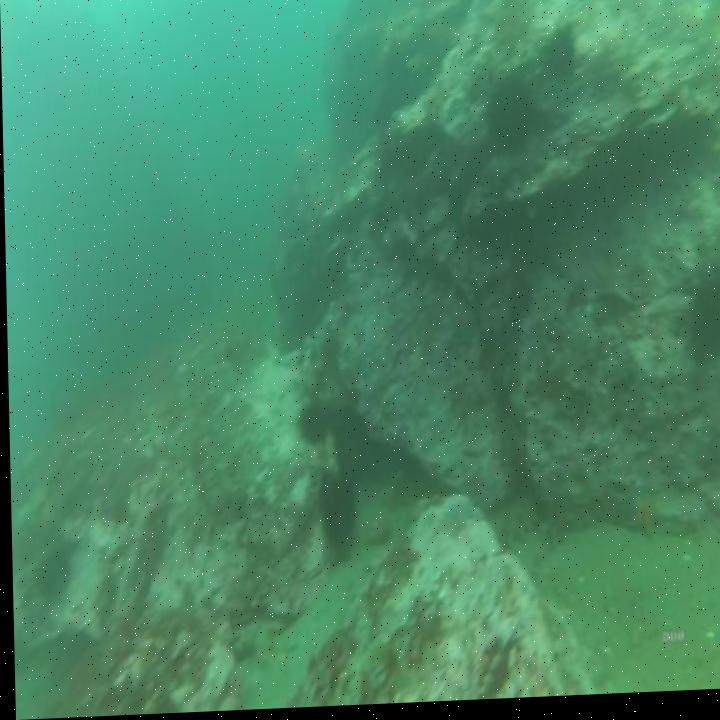echinus: (311, 464, 362, 567), (478, 76, 536, 163), (677, 263, 720, 380), (291, 403, 333, 458)
starfish: (623, 484, 658, 553), (444, 497, 479, 536)
